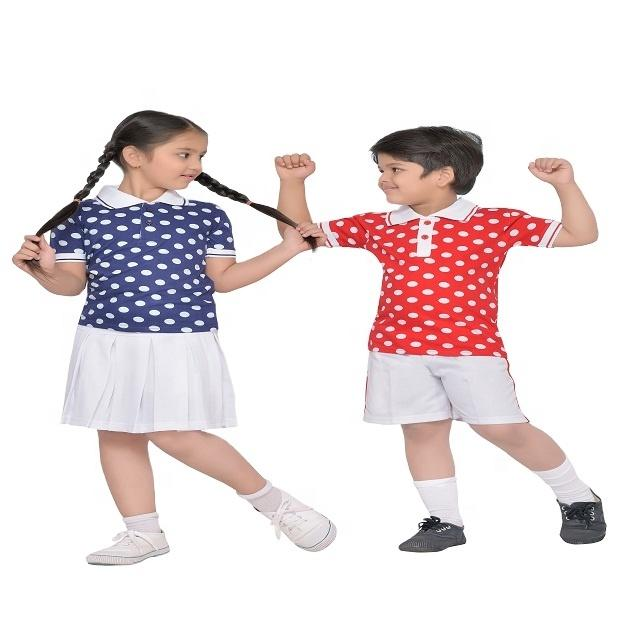child: (3, 76, 349, 578), (275, 102, 621, 604)
